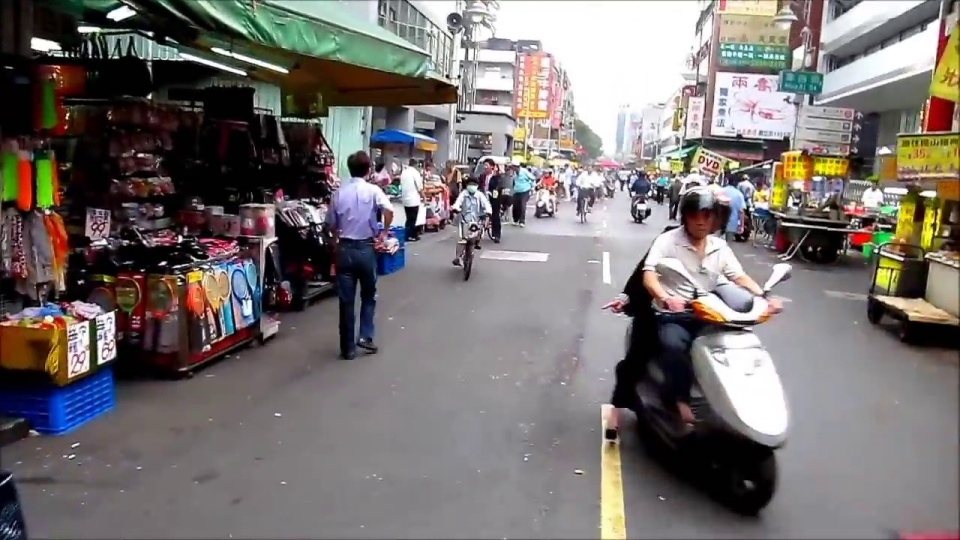person_head: (679, 186, 714, 236), (703, 183, 732, 240), (345, 150, 372, 180), (685, 173, 703, 192), (464, 176, 479, 194), (868, 175, 879, 192), (407, 157, 419, 172), (727, 172, 737, 187), (445, 161, 454, 174), (493, 162, 501, 176), (704, 176, 715, 185), (425, 159, 433, 170), (756, 178, 762, 192), (510, 164, 516, 176), (542, 168, 548, 179), (504, 165, 510, 176), (741, 174, 749, 182), (586, 165, 593, 174), (674, 177, 681, 185), (639, 169, 644, 180), (558, 164, 564, 173), (606, 167, 612, 175), (595, 167, 600, 176), (651, 171, 657, 178), (660, 172, 665, 180), (564, 162, 569, 170), (548, 169, 553, 177), (519, 162, 525, 168), (621, 165, 626, 171), (632, 168, 636, 175), (645, 171, 649, 177), (630, 168, 633, 173)
person_vbox: (642, 186, 786, 432), (600, 182, 732, 442), (324, 150, 394, 360), (448, 175, 492, 266), (721, 170, 750, 249), (399, 159, 426, 241), (478, 159, 503, 244), (513, 162, 535, 227), (444, 159, 463, 225), (575, 162, 596, 216), (498, 165, 516, 223), (535, 168, 555, 216), (860, 174, 885, 210), (668, 176, 683, 221), (629, 168, 651, 197), (738, 170, 756, 204), (547, 167, 558, 213), (562, 160, 572, 204), (753, 178, 768, 205), (657, 168, 667, 204), (617, 165, 629, 192), (570, 161, 578, 200), (594, 165, 604, 189), (557, 164, 564, 198), (603, 165, 615, 183), (628, 169, 638, 189), (626, 168, 635, 189), (423, 158, 432, 177), (649, 171, 660, 186), (645, 170, 651, 183)
